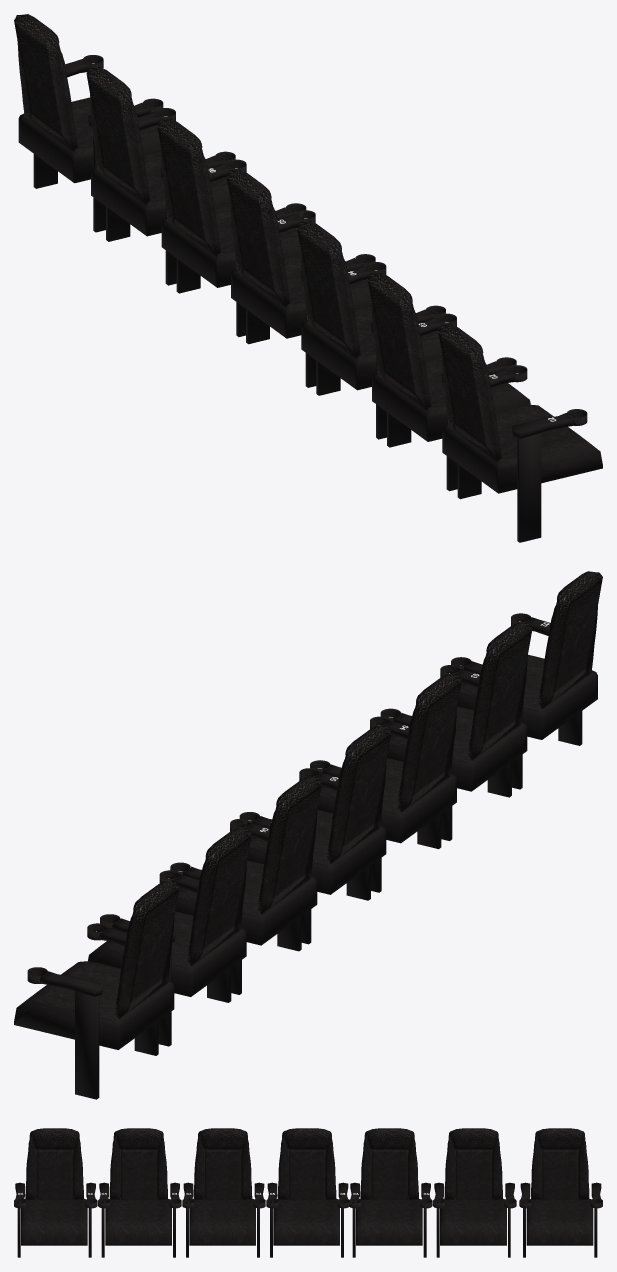
File: unaatitled.fbx
3 views of the same model, one above another, from view 1: azimuth 30°, elevation 25°; view 2: azimuth 150°, elevation 25°; view 3: azimuth 270°, elevation 25° (orthographic). The views are drawn at different scales.
Parts seen in each view (by area): view 1: Plane.002, Plane.007, Plane.001, Plane.003, Plane.005, Plane.004, Plane.006; view 2: Plane.007, Plane.005, Plane.001, Plane.006, Plane.002, Plane.003, Plane.004; view 3: Plane.007, Plane.002, Plane.006, Plane.005, Plane.001, Plane.004, Plane.003.
Part boxes in pixels (left/top/right/bottom): Plane.002: left=438, top=324, right=602, bottom=542; Plane.007: left=14, top=14, right=163, bottom=232; Plane.001: left=367, top=273, right=530, bottom=491; Plane.003: left=297, top=221, right=445, bottom=439; Plane.005: left=86, top=67, right=235, bottom=285; Plane.004: left=226, top=169, right=375, bottom=387; Plane.006: left=157, top=119, right=306, bottom=336; Plane.007: left=14, top=881, right=179, bottom=1099; Plane.005: left=88, top=828, right=251, bottom=1046; Plane.001: left=380, top=623, right=532, bottom=840; Plane.006: left=170, top=776, right=322, bottom=994; Plane.002: left=451, top=571, right=602, bottom=789; Plane.003: left=310, top=674, right=461, bottom=892; Plane.004: left=239, top=726, right=391, bottom=944; Plane.007: left=519, top=1128, right=602, bottom=1257; Plane.002: left=14, top=1128, right=97, bottom=1257; Plane.006: left=349, top=1128, right=432, bottom=1257; Plane.005: left=433, top=1128, right=516, bottom=1257; Plane.001: left=98, top=1128, right=181, bottom=1257; Plane.004: left=266, top=1128, right=349, bottom=1257; Plane.003: left=182, top=1128, right=265, bottom=1257.
Size of the model in its own units: 404 by 619 by 2879.
2 materials, 1 textured.
